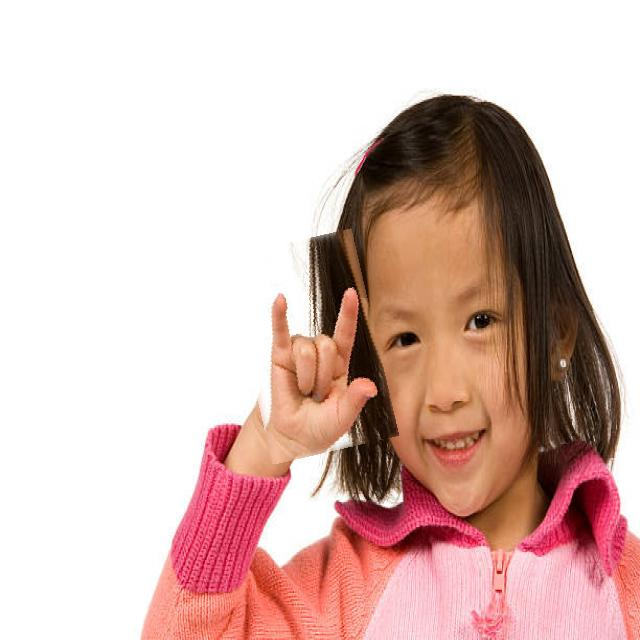I Love You: (236, 234, 388, 459)
